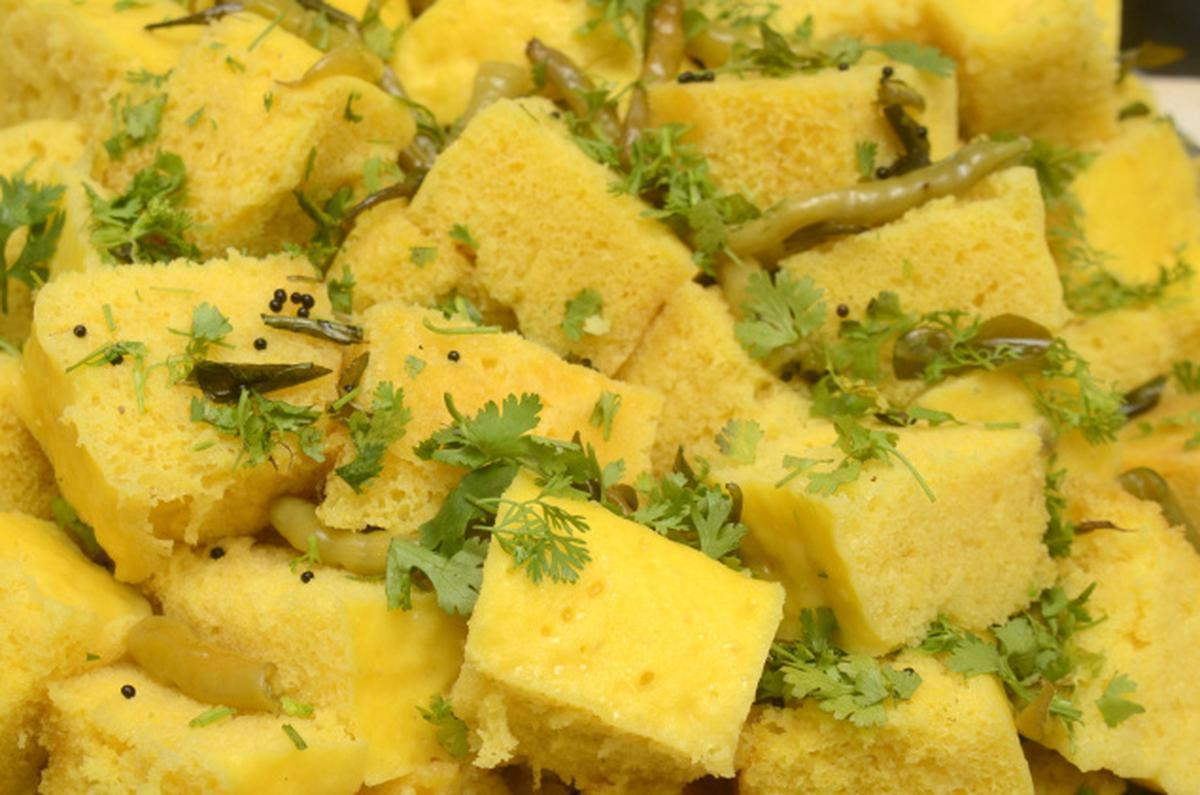dhokla: (8, 17, 1170, 776)
